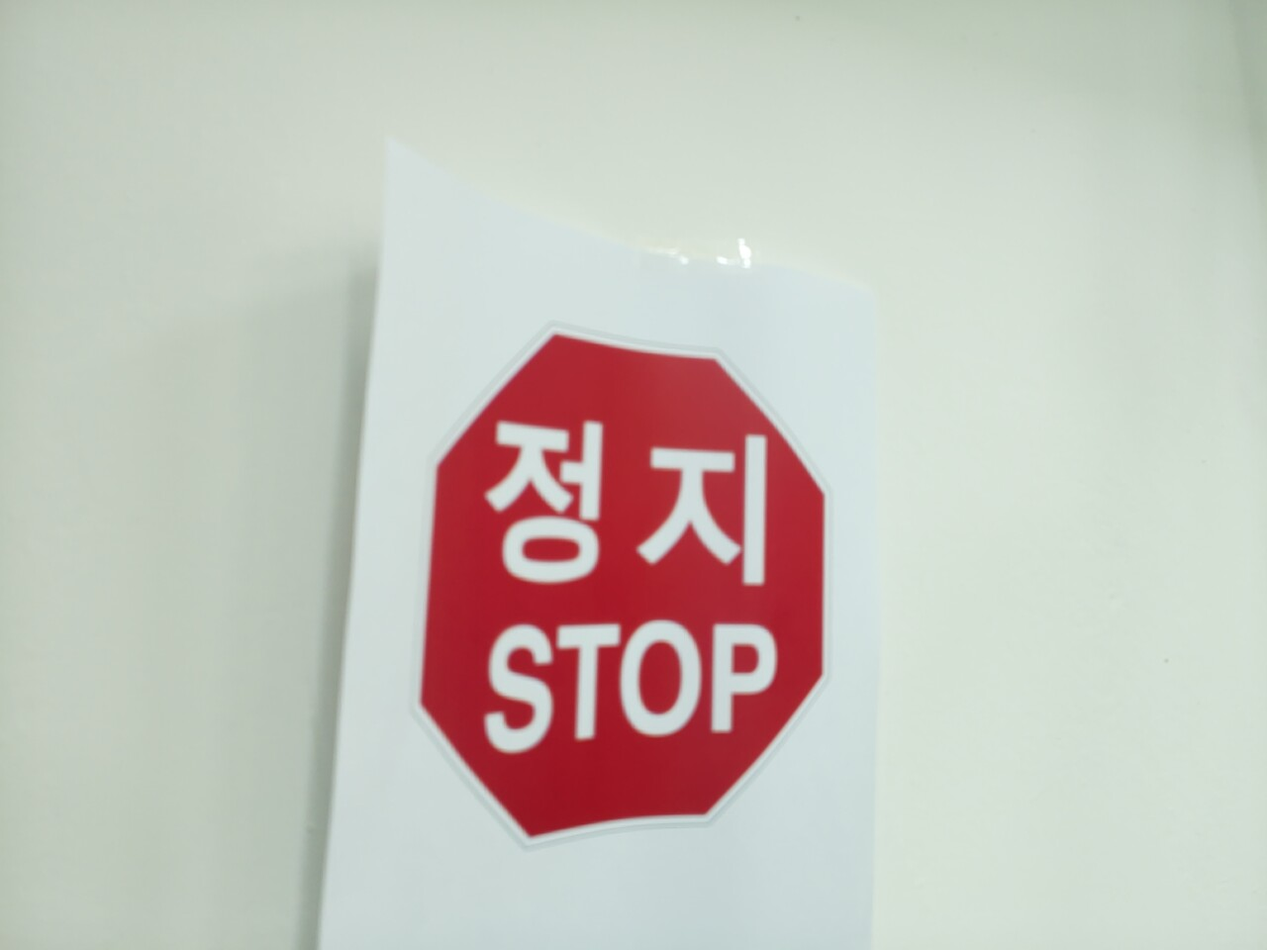stop: (409, 321, 836, 851)
